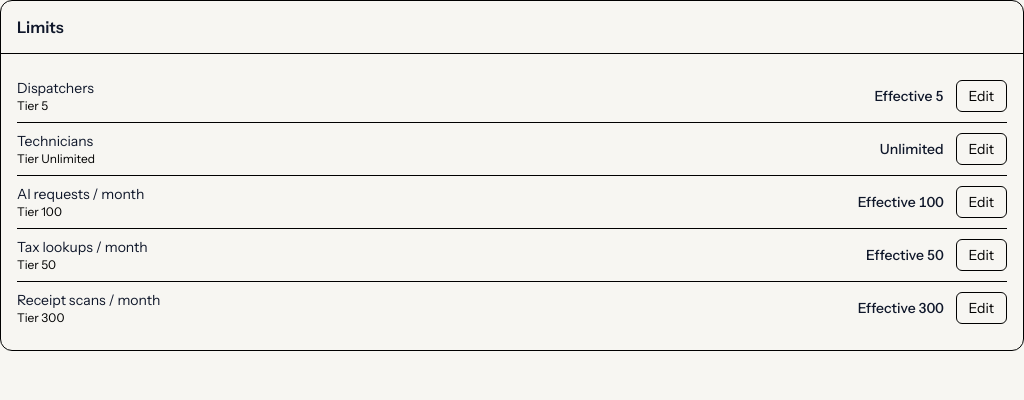
Scenario: LimitsCard › Review is disabled while nothing would change
Click the button "Edit" in the row of "Dispatchers". click: (981,96)
box: 956,80 -> 1007,112
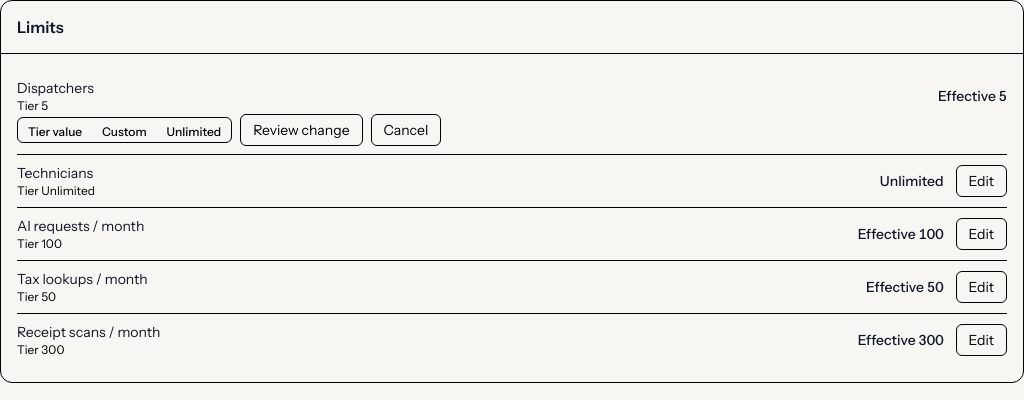
Now the button "Review change" is disabled, box 240,114 -> 363,146
